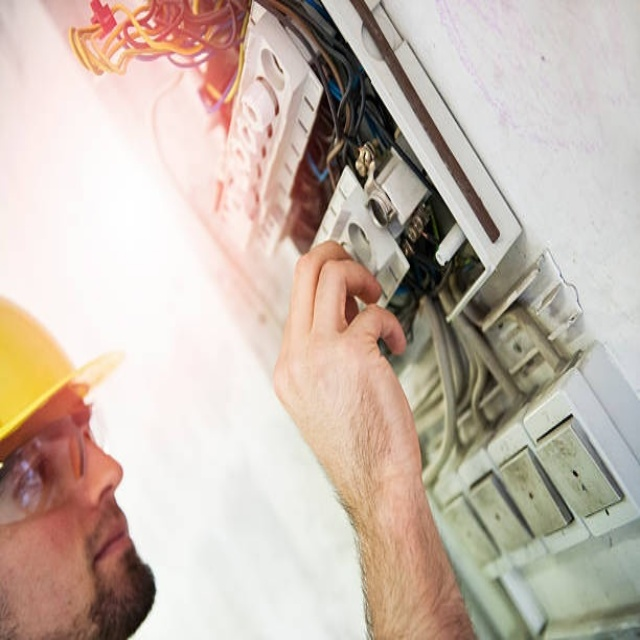Gafas: (0, 410, 96, 527)
Sin_guantes: (274, 236, 420, 484)
Sin_mascara: (72, 500, 143, 607)
